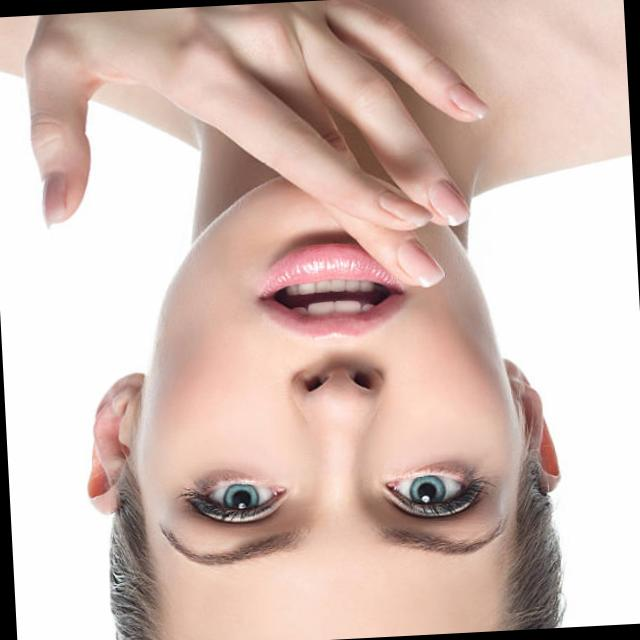Nail: (397, 239, 444, 286), (378, 191, 430, 225), (427, 182, 467, 224), (449, 85, 488, 118), (42, 173, 66, 224)
